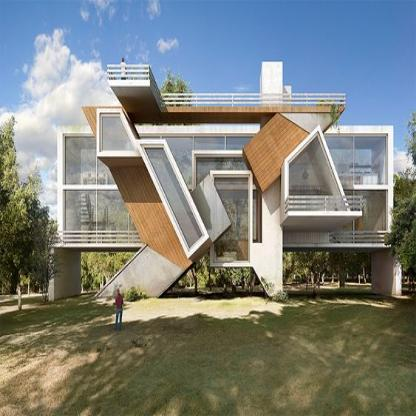Balcony: (107, 64, 346, 106), (284, 195, 363, 216), (48, 231, 142, 243), (330, 231, 401, 242)
Building Outline: (48, 62, 401, 302)
Facade: (48, 62, 402, 300)
Floor Slab: (107, 80, 346, 112), (280, 211, 362, 225), (214, 240, 257, 261), (288, 184, 389, 189), (162, 185, 261, 190), (283, 243, 401, 247), (62, 185, 149, 190), (62, 243, 159, 247), (97, 151, 140, 156), (76, 222, 111, 225)
Glass Wall: (144, 148, 202, 248), (289, 135, 344, 210), (214, 177, 249, 262), (162, 136, 193, 190), (322, 190, 353, 242), (355, 190, 386, 242), (65, 191, 96, 242), (98, 191, 129, 242), (320, 137, 352, 184), (355, 137, 387, 184), (98, 137, 129, 184), (65, 137, 96, 184), (102, 116, 134, 150)
Window: (196, 158, 250, 186), (253, 190, 262, 243), (194, 136, 225, 150), (226, 136, 254, 150), (253, 175, 256, 185)
